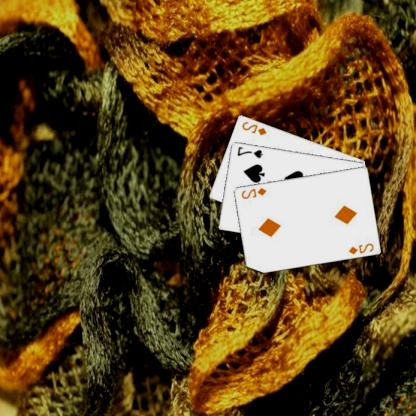2D: (241, 119, 270, 136), (240, 185, 270, 200), (348, 240, 376, 256)
7S: (236, 144, 266, 159)
